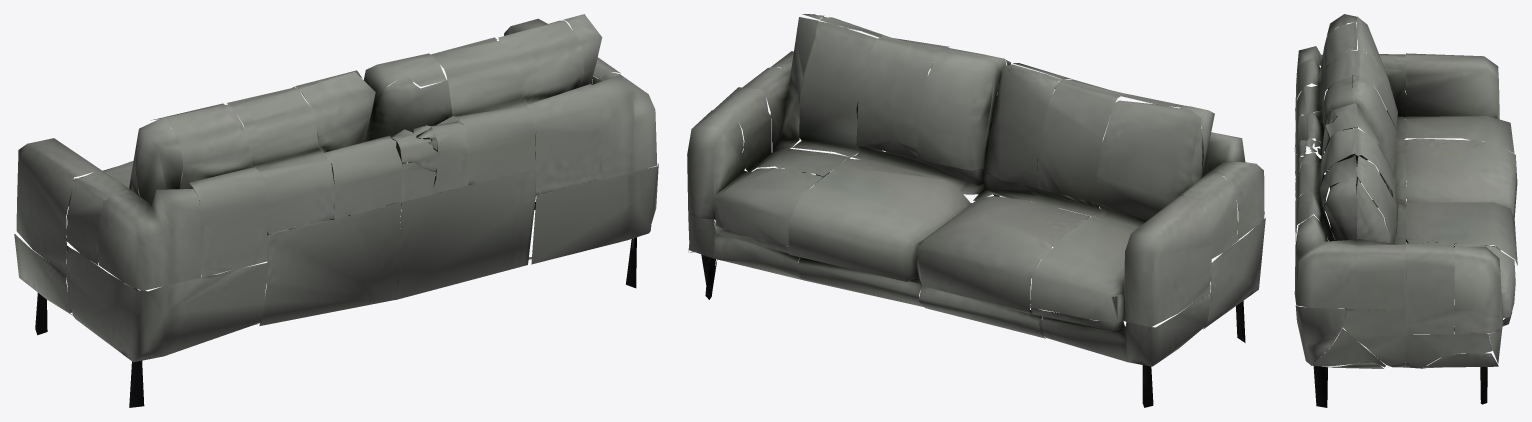
3 views of the same model, side by side, from view 1: azimuth 30°, elevation 25°; view 2: azimuth 150°, elevation 25°; view 3: azimuth 270°, elevation 25° (orthographic). The views are drawn at different scales.
Visible parts, largest first — view 1: geometry_0; view 2: geometry_0; view 3: geometry_0.
Part boxes in pixels (x1,y1,x2,y2): geometry_0: (14, 14, 658, 407); geometry_0: (687, 14, 1265, 407); geometry_0: (1294, 14, 1517, 407).
Bounding box in the file's own units: 1.8 × 0.8644 × 0.8188.
1 material, 1 textured.
